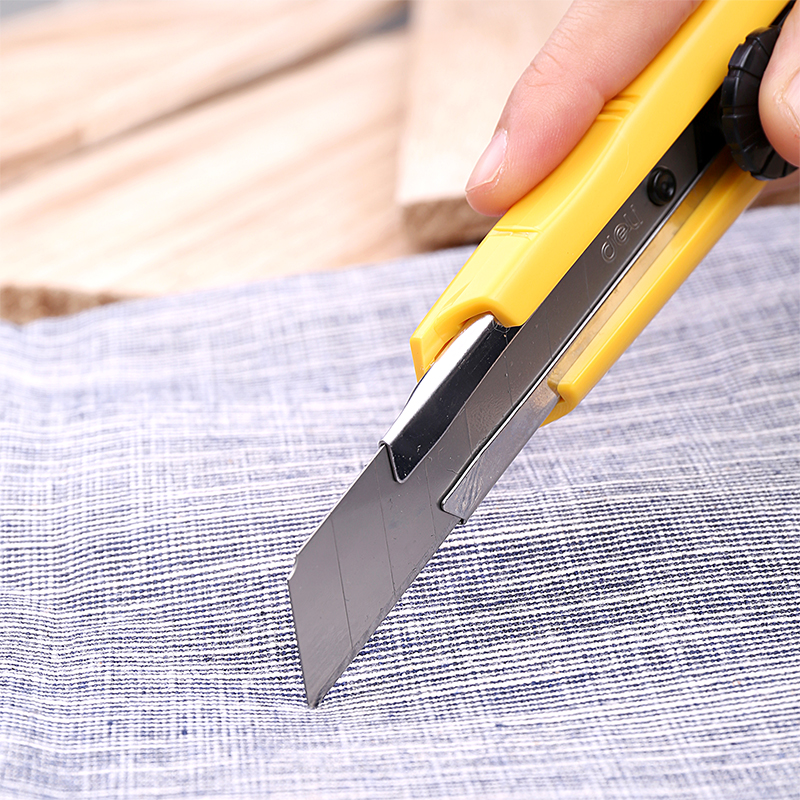cutter: (282, 1, 800, 713)
